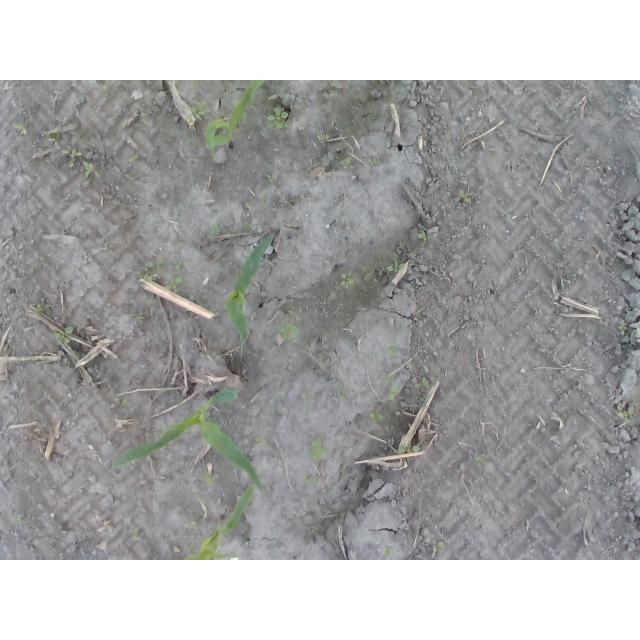Maize: (111, 388, 270, 497), (225, 232, 275, 360), (178, 486, 259, 560), (206, 80, 267, 161)
Weeds: (42, 135, 98, 181), (143, 259, 181, 295), (267, 107, 290, 134), (618, 397, 640, 423), (188, 103, 208, 125), (279, 323, 301, 342), (383, 377, 397, 403), (313, 439, 327, 462), (56, 327, 73, 344), (458, 190, 474, 206), (371, 411, 385, 426), (433, 543, 448, 557), (12, 125, 28, 138), (207, 222, 221, 236), (342, 273, 354, 289), (388, 261, 405, 271), (205, 475, 219, 487), (341, 158, 355, 170), (503, 208, 517, 220), (255, 437, 268, 449), (35, 303, 47, 316), (417, 378, 431, 389), (14, 517, 27, 527), (382, 546, 393, 557), (268, 173, 278, 183), (318, 134, 329, 143), (619, 320, 626, 334), (390, 346, 399, 354), (306, 477, 315, 484)
